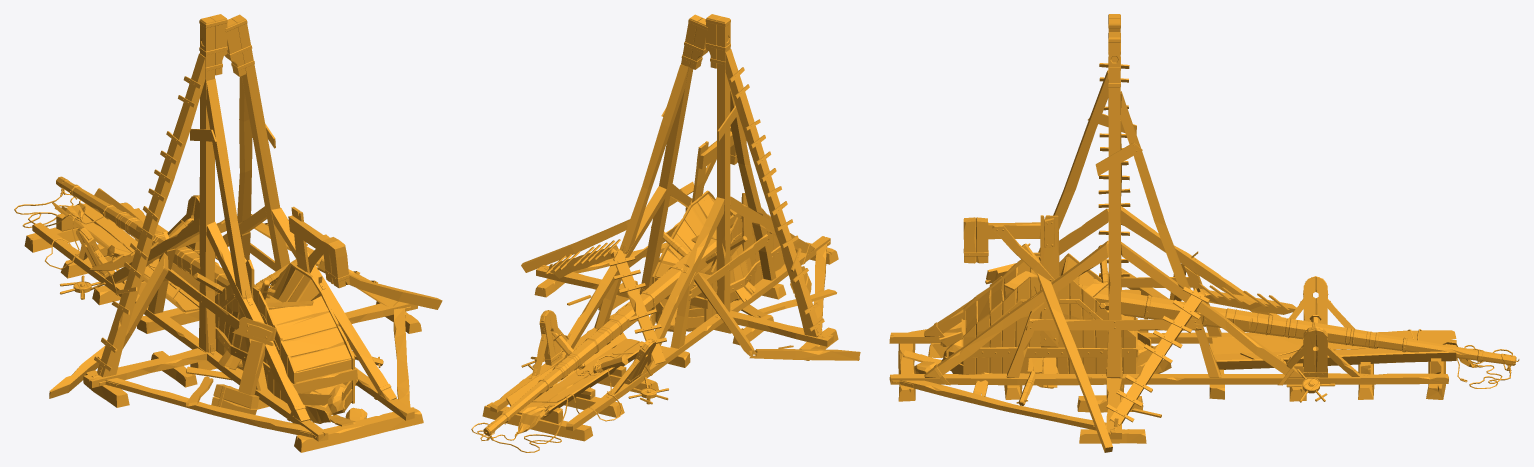
Rendered from SM_Trebuchet_Broken.fbx.
3 renders of one model, left to right at view 1: azimuth 30°, elevation 25°; view 2: azimuth 150°, elevation 25°; view 3: azimuth 270°, elevation 25°, orthographic. The views are drawn at different scales.
Parts seen in each view (by area): view 1: trebuchet-broken; view 2: trebuchet-broken; view 3: trebuchet-broken.
Part boxes in pixels (x1=…): trebuchet-broken: x1=14, y1=14, x2=442, y2=452; trebuchet-broken: x1=471, y1=14, x2=860, y2=452; trebuchet-broken: x1=889, y1=14, x2=1519, y2=452.
Bounding box in the file's own units: 8.73 × 7.57 × 12.72.
